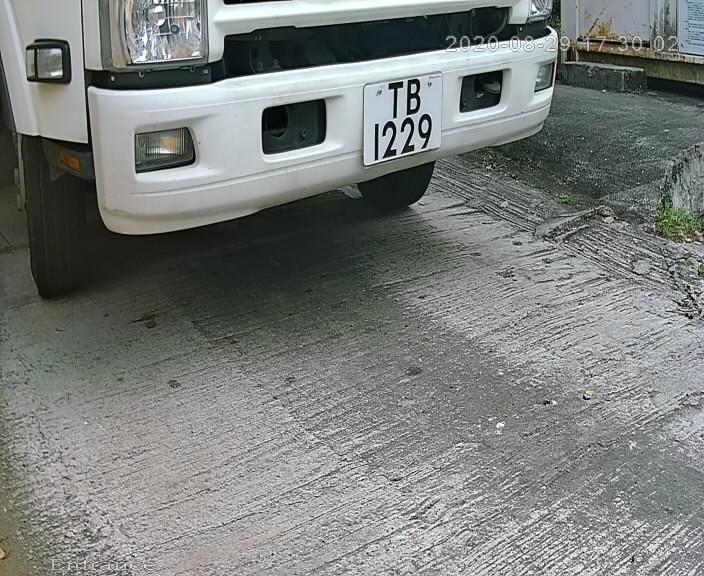License Plate: (327, 57, 462, 175)
